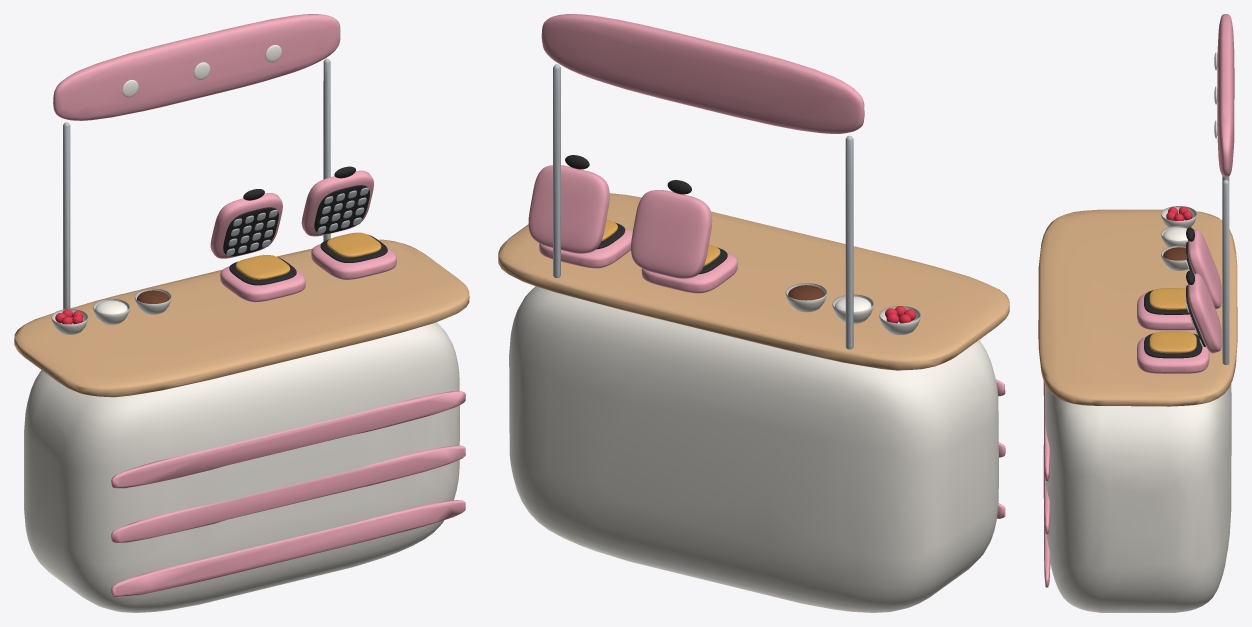
File: vitrina_wafles_2.glb
3 renders of one model, left to right at view 1: azimuth 30°, elevation 25°; view 2: azimuth 150°, elevation 25°; view 3: azimuth 270°, elevation 25°, orthographic. The views are drawn at different scales.
Visible parts, largest first — view 1: barra, tapa.008, letrero.012, franja.005, franja.007, franja.006, tapa wafflera.001 (×2), base wafflera.001, base wafflera.002, poste letrero, placa tapa.001, placa tapa.002 (+3 smaller); view 2: barra, tapa.008, letrero.012, tapa wafflera.001 (×2), poste letrero, poste letrero.001, base wafflera.001, base wafflera.002; view 3: barra, tapa.008, tapa wafflera.001 (×2), letrero.012, poste letrero.001, base wafflera.002, base wafflera.001, wafle en placa.002, wafle en placa.001, placa wafflera.002, tazón.001, franja.007 (+4 smaller).
Boxes of the visible parts, x1,y1,x2,y2 form: barra: (24, 322, 459, 612); tapa.008: (14, 239, 469, 397); letrero.012: (53, 14, 340, 120); franja.005: (111, 500, 465, 597); franja.007: (111, 391, 465, 488); franja.006: (111, 445, 465, 542); tapa wafflera.001 (×2): (210, 170, 373, 258); base wafflera.001: (220, 266, 305, 302); base wafflera.002: (311, 244, 396, 279); poste letrero: (63, 122, 70, 309); placa tapa.001: (223, 207, 278, 256); placa tapa.002: (314, 185, 369, 233); barra: (509, 286, 998, 612); tapa.008: (498, 193, 1009, 370); letrero.012: (541, 14, 864, 133); tapa wafflera.001 (×2): (528, 165, 712, 278); poste letrero: (845, 135, 853, 349); poste letrero.001: (553, 64, 560, 277); base wafflera.001: (641, 253, 737, 293); base wafflera.002: (539, 228, 632, 268); barra: (1045, 383, 1231, 612); tapa.008: (1038, 209, 1237, 406); tapa wafflera.001 (×2): (1188, 230, 1221, 353); letrero.012: (1217, 14, 1234, 176); poste letrero.001: (1222, 180, 1229, 364); base wafflera.002: (1137, 337, 1209, 373); base wafflera.001: (1137, 293, 1194, 330); wafle en placa.002: (1149, 331, 1196, 353); wafle en placa.001: (1149, 288, 1186, 309); placa wafflera.002: (1144, 333, 1202, 358); tazón.001: (1161, 206, 1196, 227); franja.007: (1043, 381, 1049, 481).
Bounding box in the file's own units: 1.54 × 1.83 × 0.6793.
